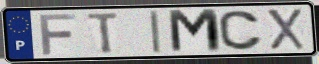C: (216, 9, 265, 52)
F: (37, 12, 78, 56)
I: (148, 9, 164, 56)
M: (166, 7, 225, 55)
T: (85, 11, 121, 55)
X: (264, 7, 308, 51)
